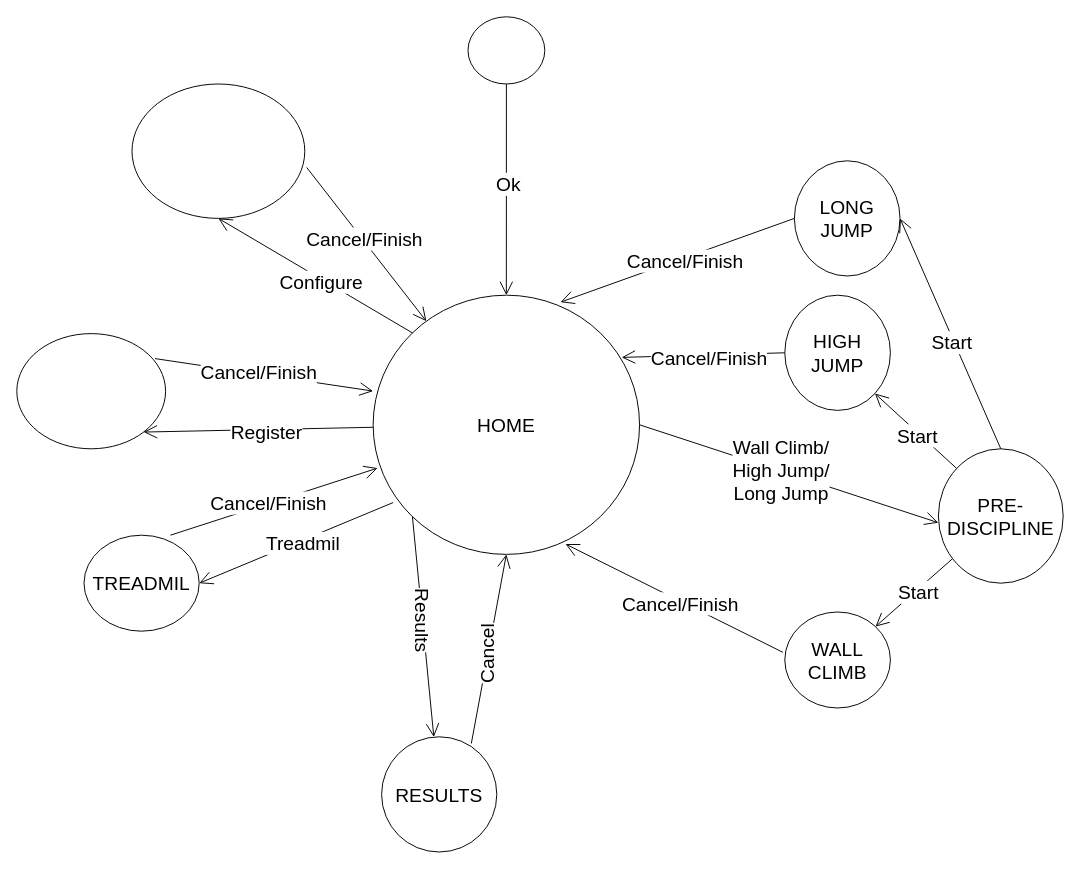
Image size: 1080x869. Some labels were removed from this diagram. The shapes that lost their labels are listed below. From the top down, each one's centre as x and y in pixels, then its label:
At point 506,50: "LOGIN".
At point 218,150: "CONFIGURATION".
At point 91,391: "REGISTRATION".
